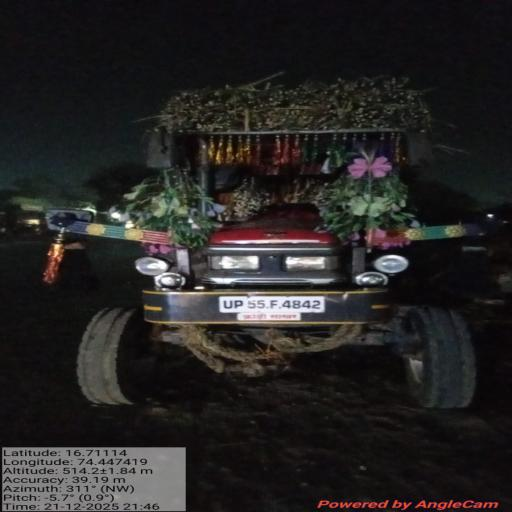number_plate: (220, 296, 324, 312)
